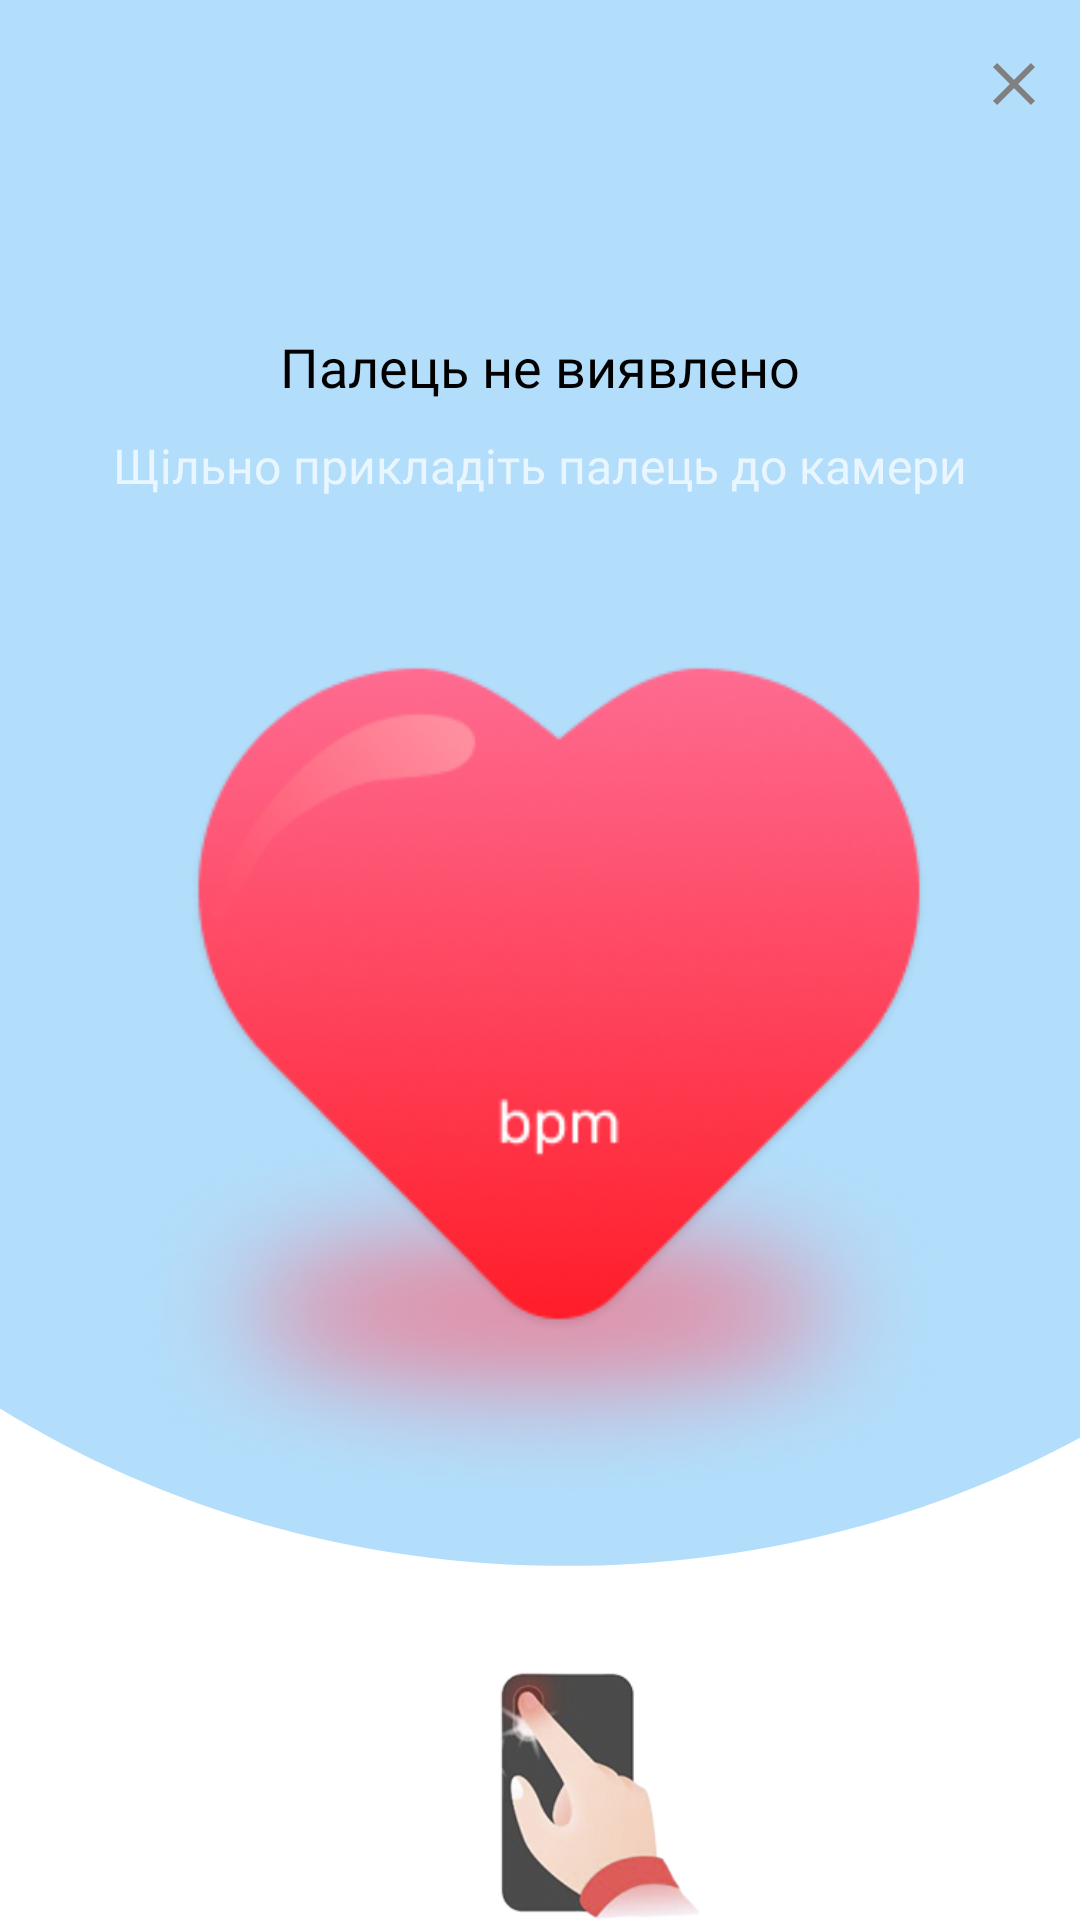

Locate icon controls on the screen. Image size 1080px x 1920px, boxes as (left=x1, top=y1, right=x2, bottom=y2).
close: (left=993, top=63, right=1035, bottom=105)
hands phone: (left=501, top=1673, right=694, bottom=1918)
